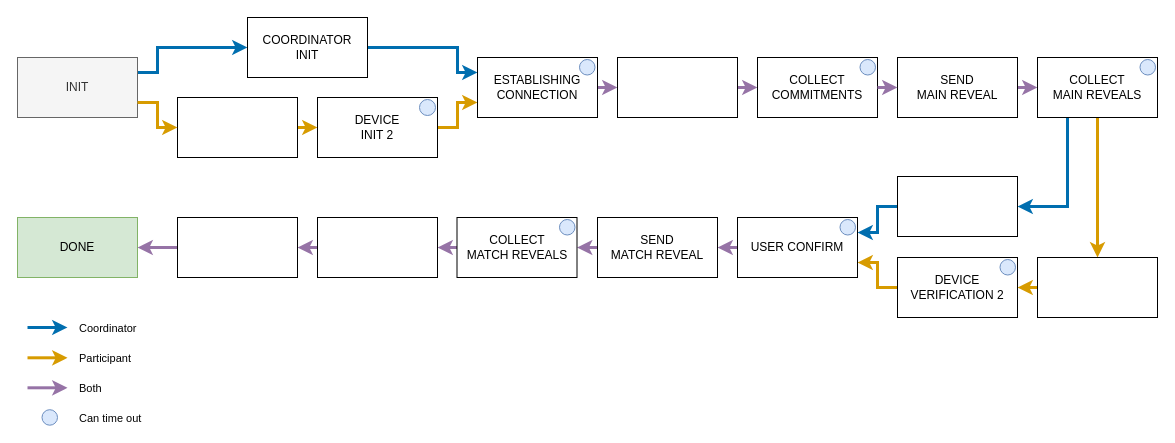
This 1175x443 diagram has some shape labels left out. The centre of each missing label's shape, as x and y in pixels:
"COORDINATOR VERIFICATION" goes at (957,206).
"DECRYPTING" goes at (237,247).
"DEVICE INIT 1" goes at (237,127).
"DEVICE VERIFICATION 1" goes at (1097,287).
"SECRET SHARING" goes at (377,247).
"SEND COMMITMENT" goes at (677,87).
